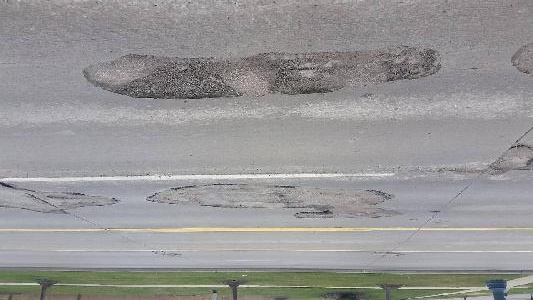pothole: (116, 62, 243, 99), (266, 55, 341, 99), (380, 47, 439, 85), (317, 206, 335, 218)
